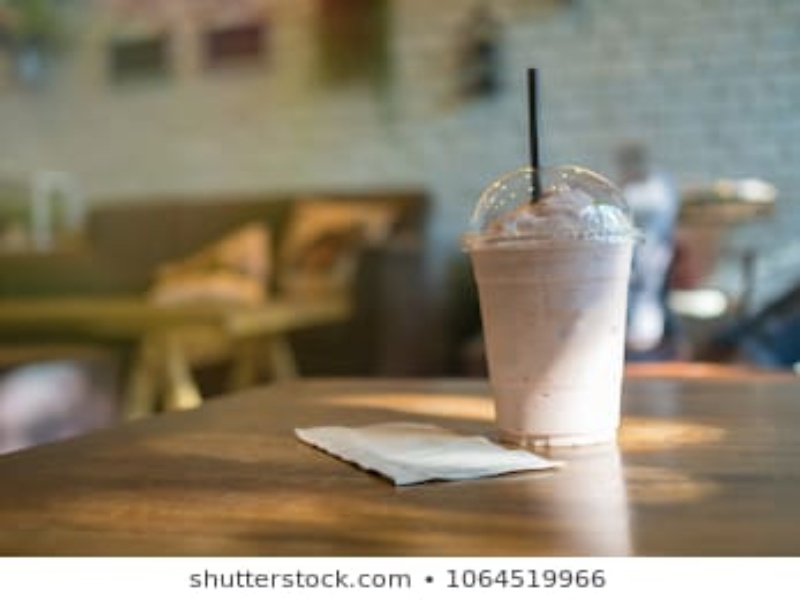plastic-cup: (457, 162, 635, 452)
straw: (524, 70, 548, 209)
